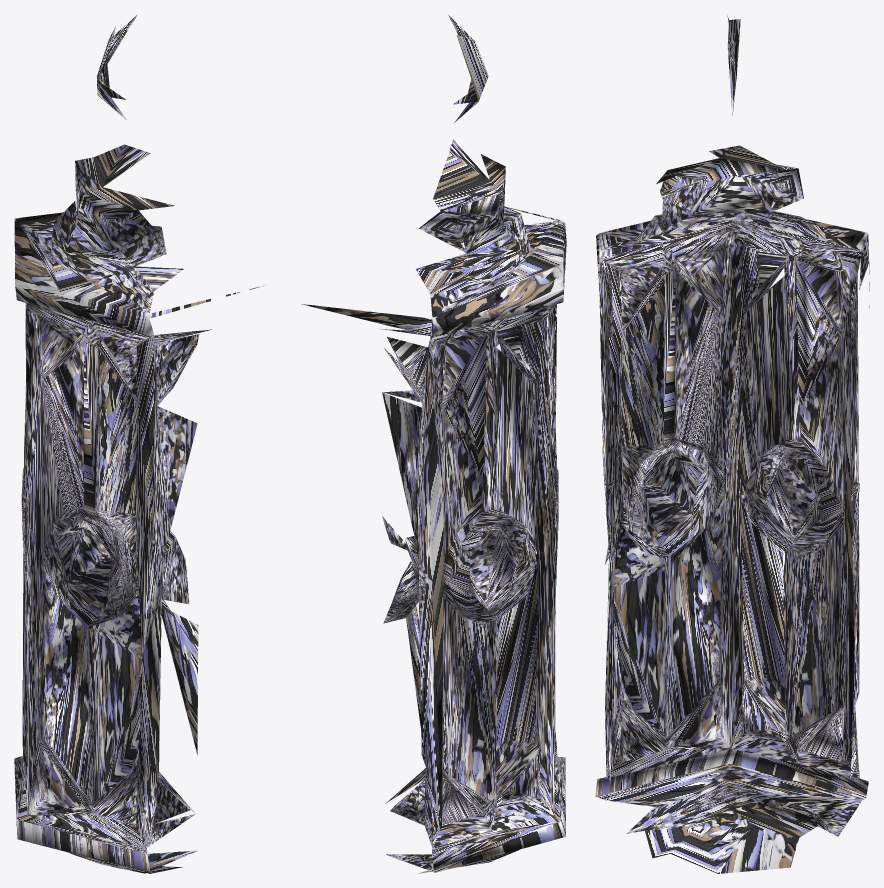
The model's file is hf_lantern.glb.
The picture shows the model from 3 angles, left to right: view 1: azimuth 30°, elevation 25°; view 2: azimuth 150°, elevation 25°; view 3: azimuth 270°, elevation 25°; orthographic projection.
Size of the model in its own units: 0.4649 by 1.9 by 0.5489.
Materials: 1 (1 with a texture image).
